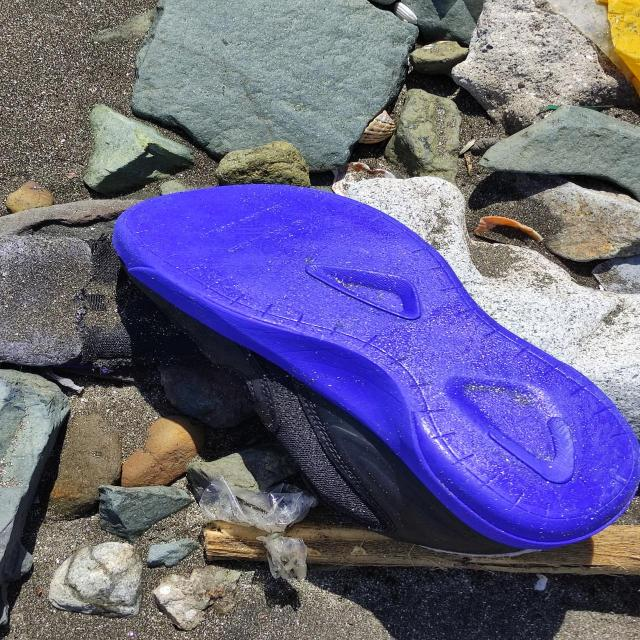plastic_waste: (199, 476, 321, 585)
rubber_waste: (109, 182, 640, 552)
